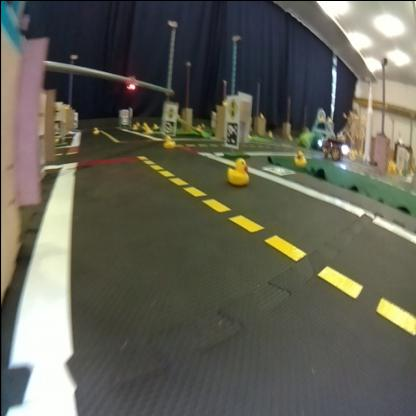Duckie: (228, 156, 250, 183), (295, 150, 306, 164), (163, 135, 175, 147), (94, 124, 99, 132)
Duckiebot: (318, 136, 351, 158)
QR code: (263, 163, 295, 175), (226, 120, 238, 144), (164, 119, 175, 133)
Signal sign: (228, 95, 238, 117), (166, 106, 176, 118)
Traffic light: (126, 74, 136, 88)
